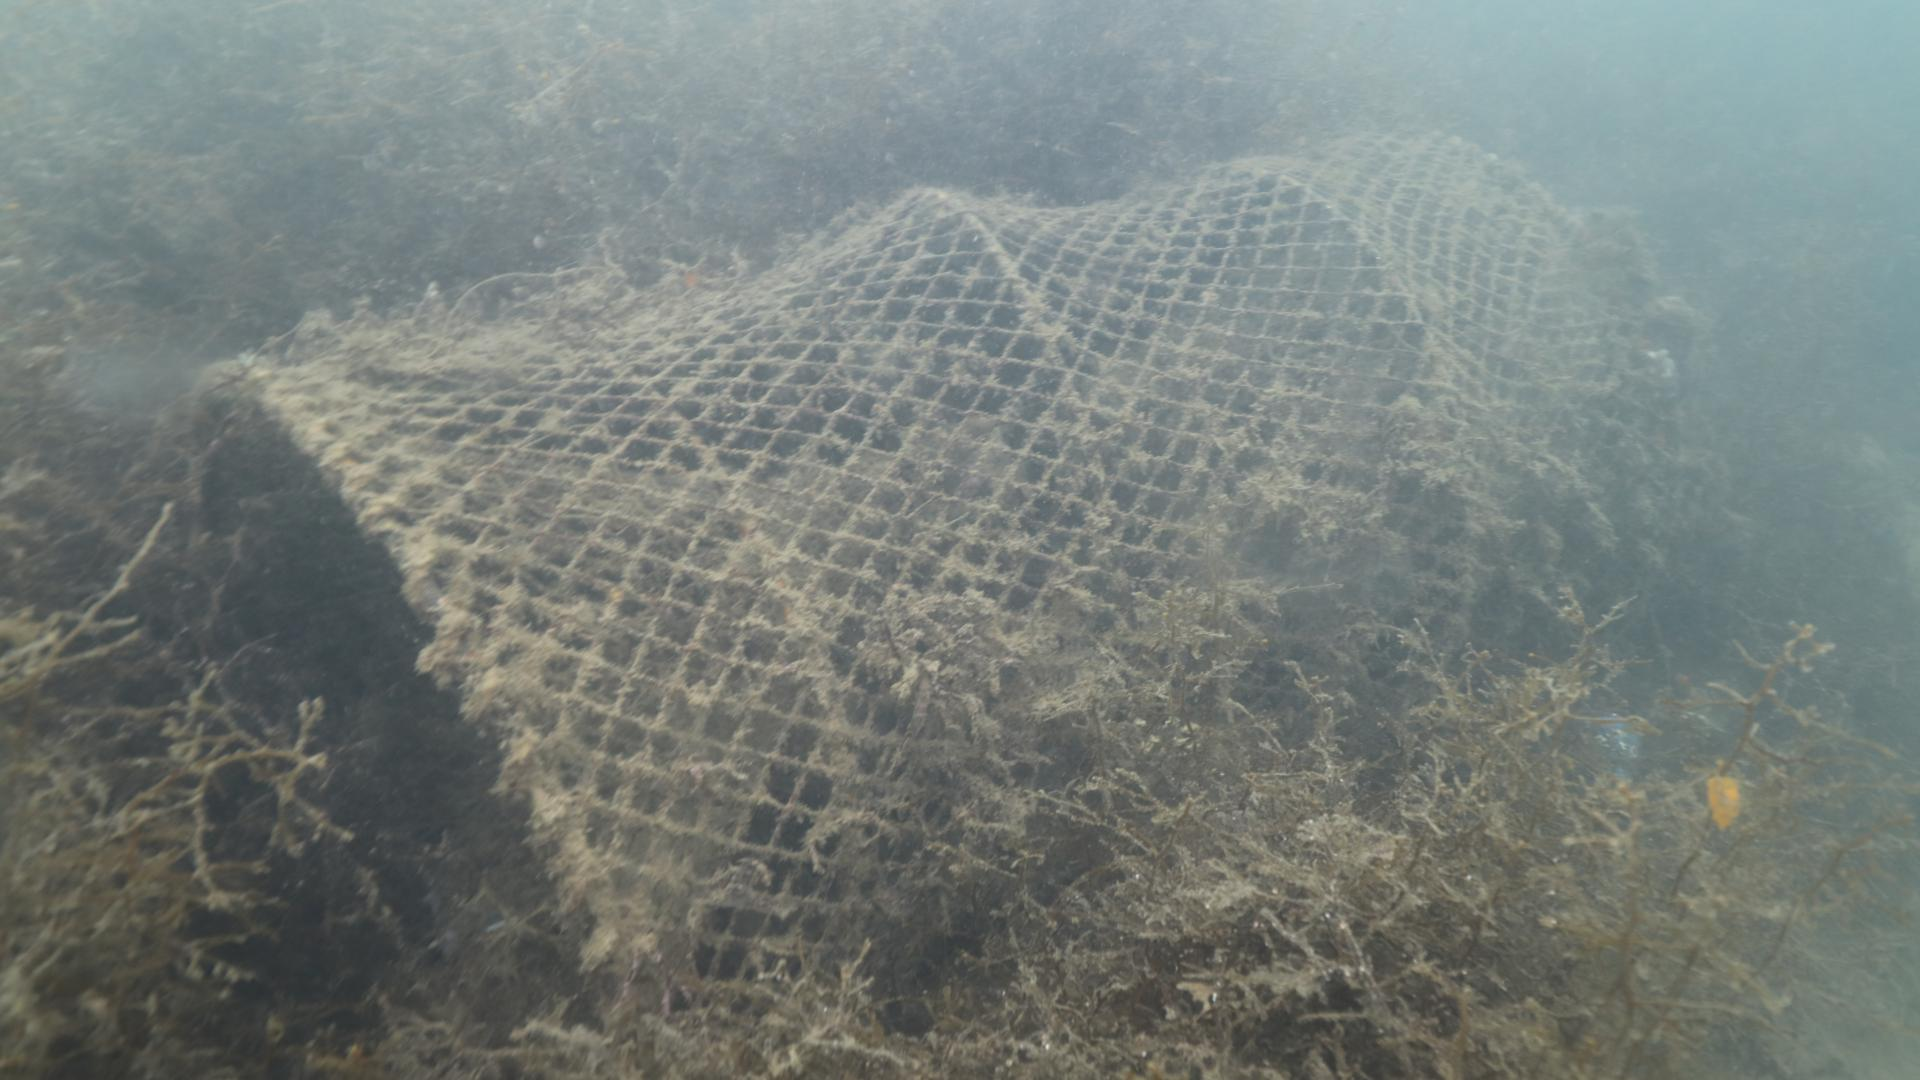spring fish trap: (175, 123, 1717, 1026)
